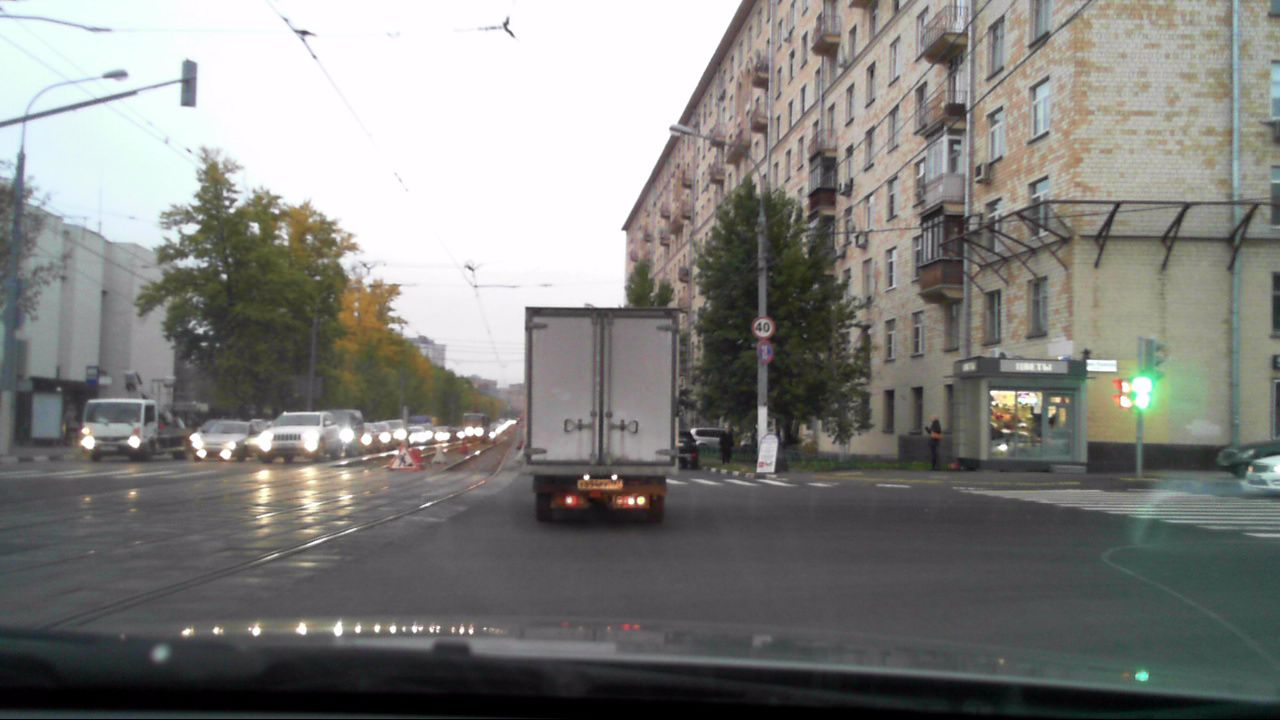speed_warning_40: (751, 316, 774, 340)
